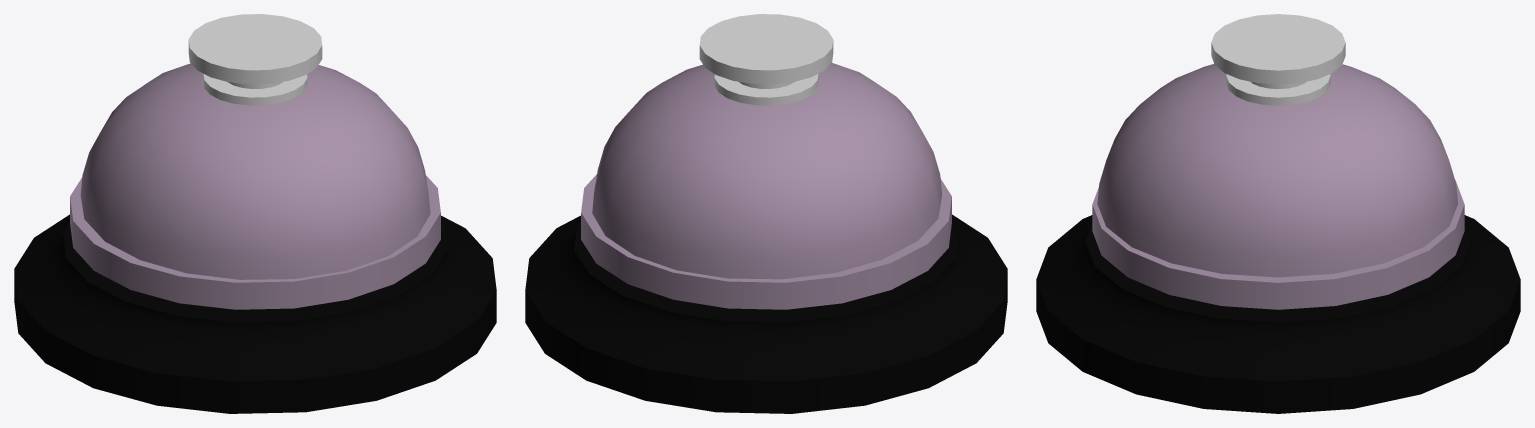
The model's file is cloche.fbx.
3 views of the same model, side by side, from view 1: azimuth 30°, elevation 25°; view 2: azimuth 150°, elevation 25°; view 3: azimuth 270°, elevation 25° (orthographic).
Visible parts, largest first — view 1: cloche; view 2: cloche; view 3: cloche.
Part boxes in pixels (x1=…): cloche: x1=14, y1=14, x2=496, y2=413; cloche: x1=525, y1=14, x2=1007, y2=413; cloche: x1=1036, y1=14, x2=1520, y2=413.
Bounding box in the file's own units: 0.2985 × 0.1832 × 0.2985.
